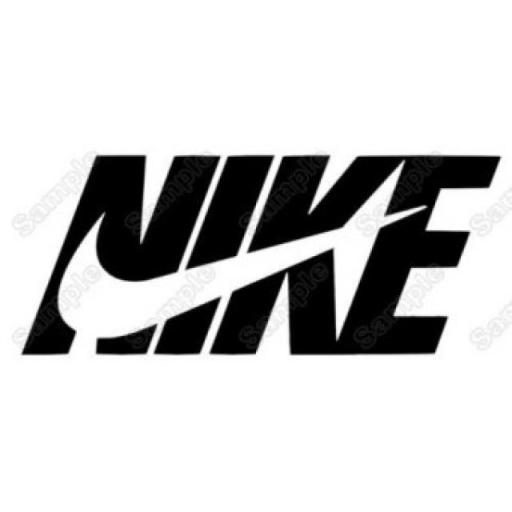Nike: (15, 143, 503, 362)
